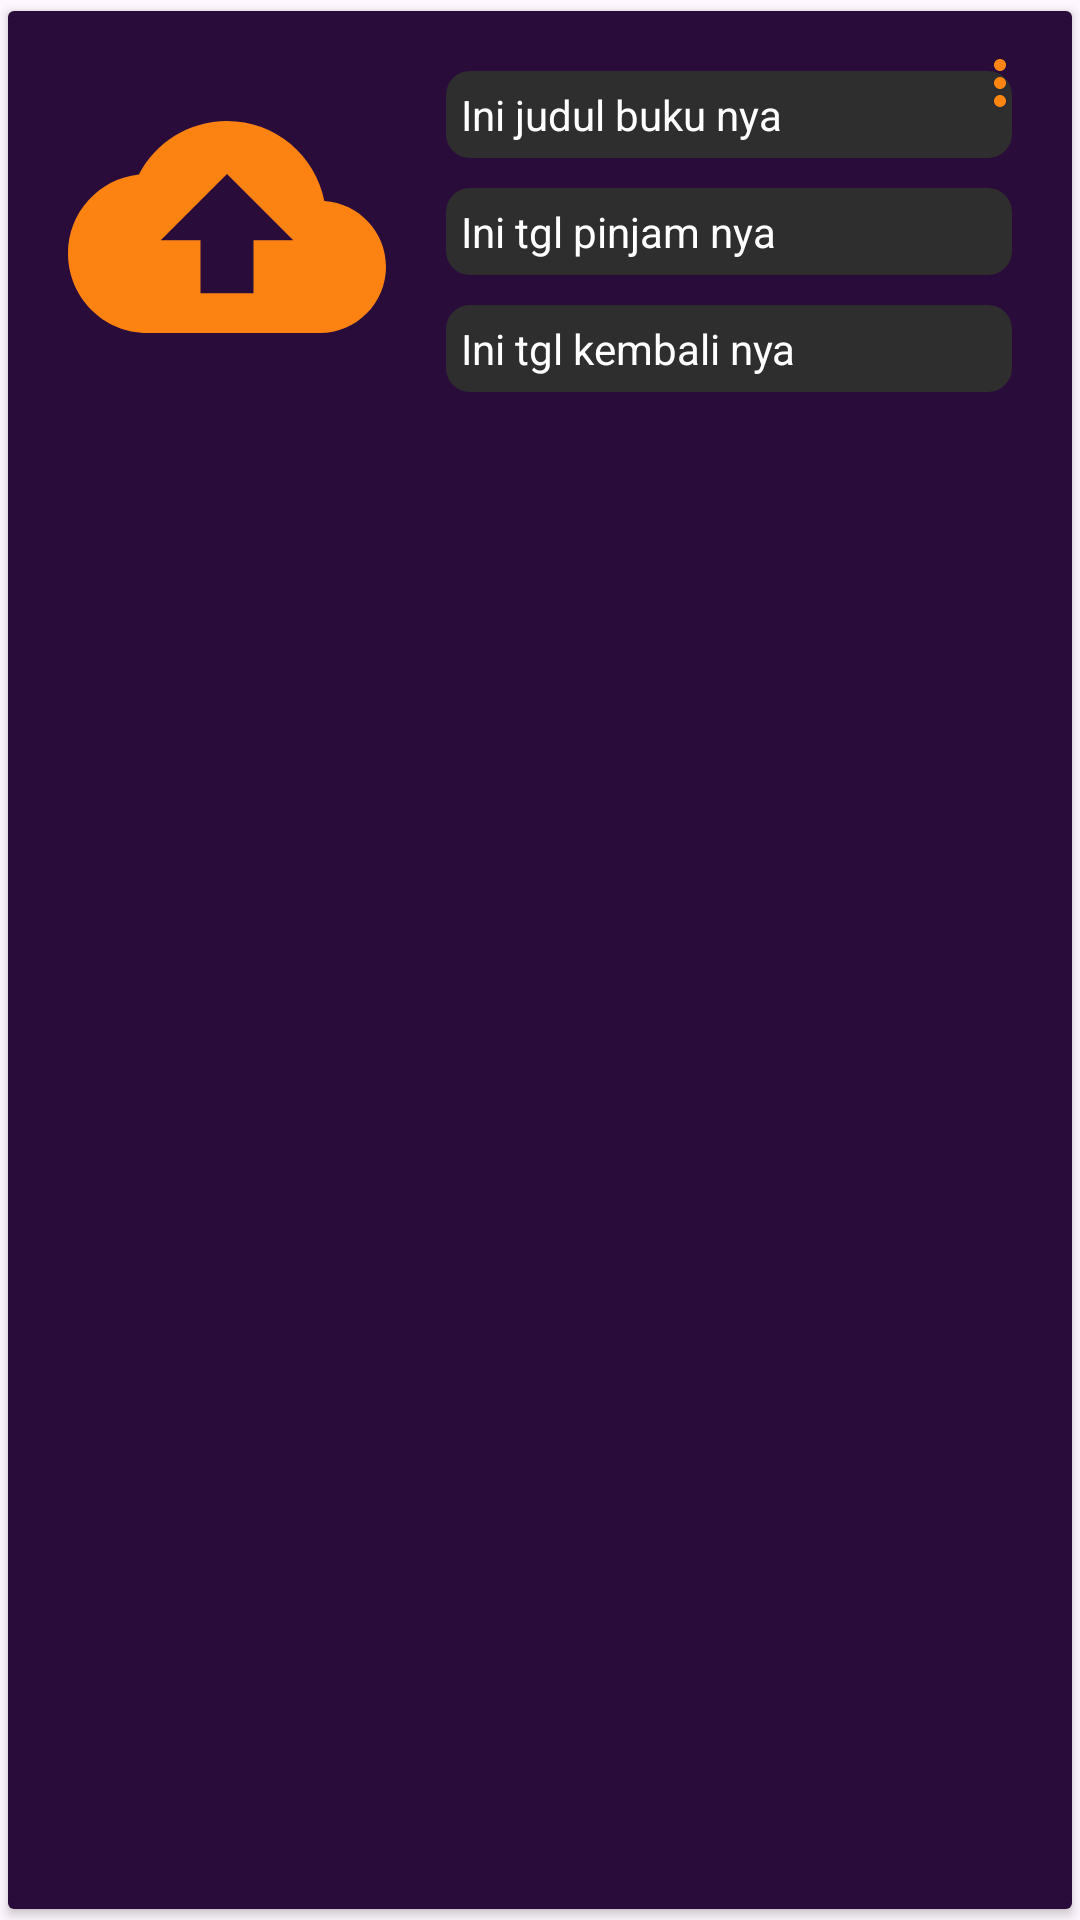

Screen size 1080px×1920px. Icon name, then its box in pixels as (x1, y1, x2, y2):
upload: (68, 121, 386, 333)
